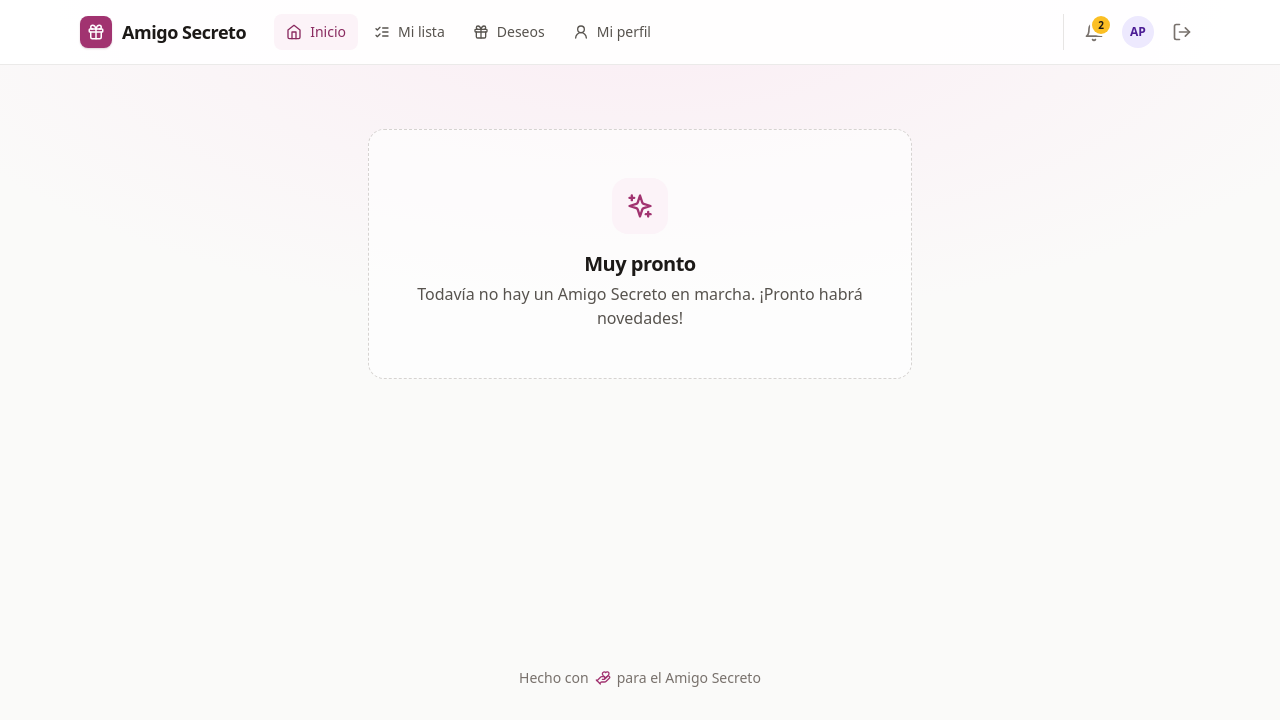
Test: NotificationBell › muestra el número de no leídas y las marca al abrir
This screenshot has width=1280, height=720.
Step 1. Click the button named "Notificaciones (2 sin leer)" → click(1094, 32), box [1076,14,1112,50]
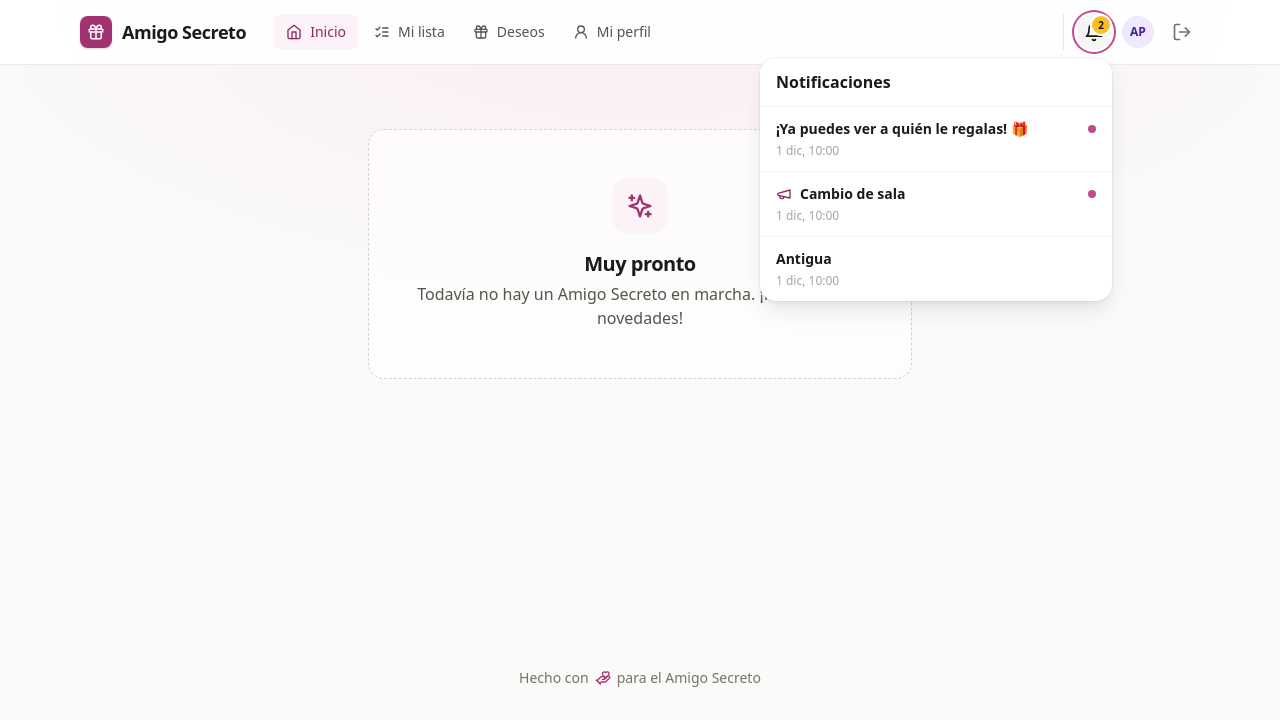
Expected: the element "Notificaciones" is shown, [760,58,1112,301]
Expected: the text "Cambio de sala" is shown, [776,184,1096,204]
